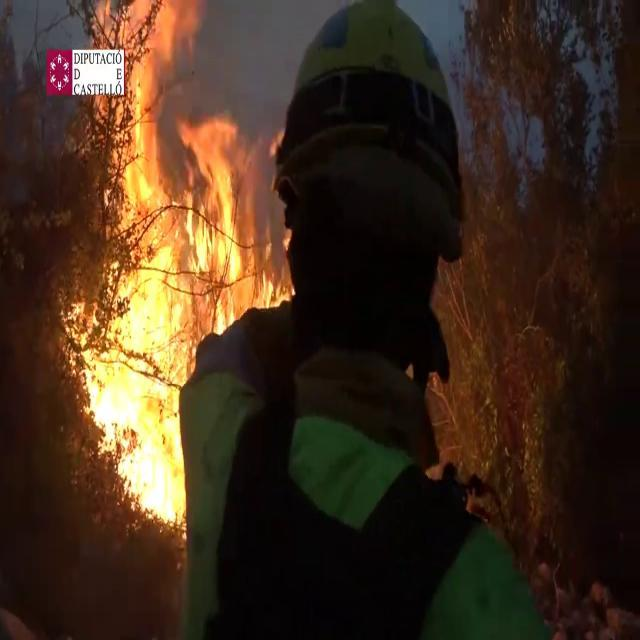Fire: (63, 6, 277, 528)
